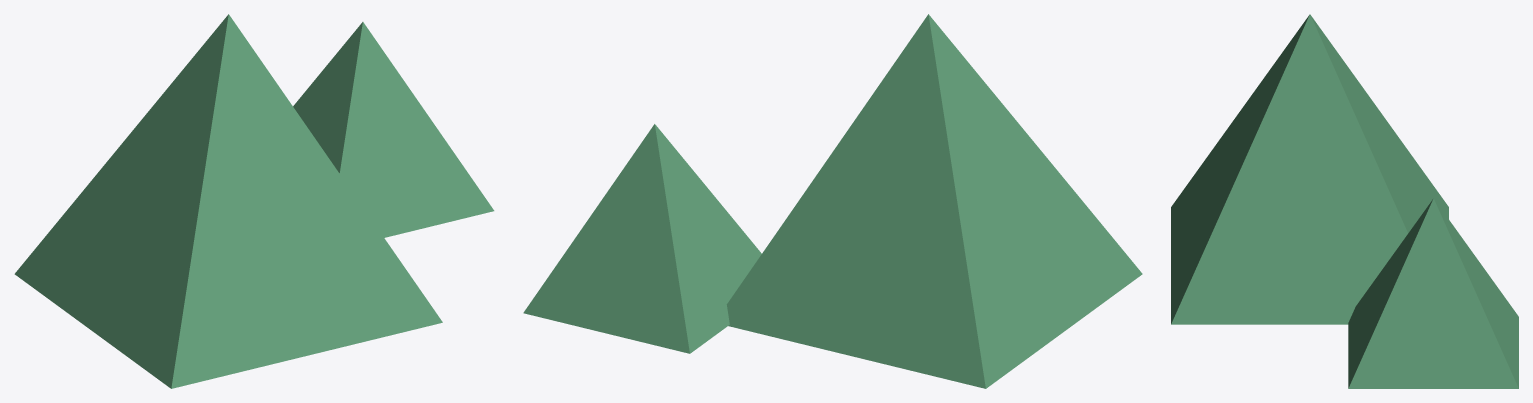
The model's file is military-building.fbx.
3 views of the same model, side by side, from view 1: azimuth 30°, elevation 25°; view 2: azimuth 150°, elevation 25°; view 3: azimuth 270°, elevation 25° (orthographic). The views are drawn at different scales.
Parts seen in each view (by area): view 1: Cube; view 2: Cube; view 3: Cube.
Part boxes in pixels (left/top/right/bottom): Cube: left=14, top=14, right=494, bottom=388; Cube: left=523, top=14, right=1142, bottom=388; Cube: left=1171, top=14, right=1518, bottom=388.
Bounding box in the file's own units: 3.12 × 2 × 2.5.
